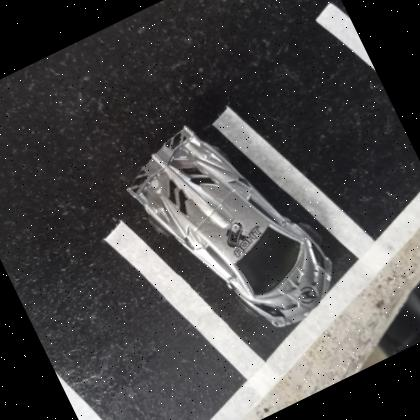Car: (127, 122, 334, 326)
